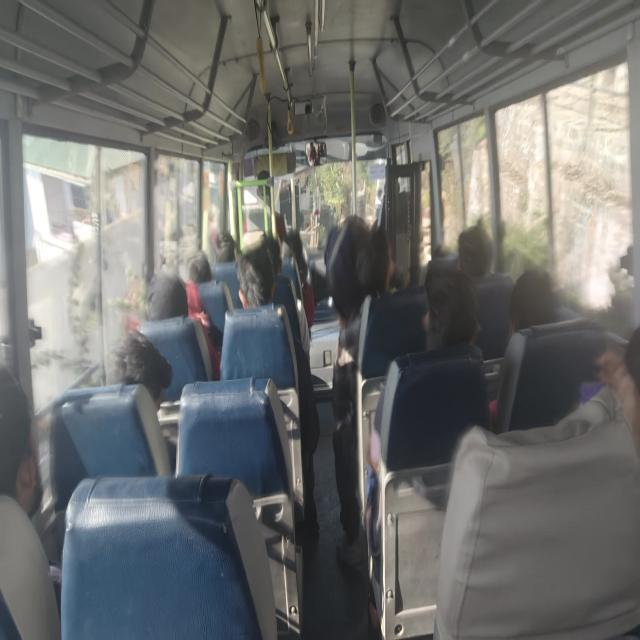person: (433, 326, 639, 638), (364, 259, 491, 636), (234, 230, 320, 535), (325, 214, 394, 566), (49, 329, 173, 512), (0, 367, 61, 638), (144, 268, 220, 380), (594, 325, 640, 452), (182, 249, 223, 379), (110, 329, 173, 412), (508, 266, 560, 336), (144, 268, 188, 320), (457, 223, 493, 278), (185, 249, 212, 283)
